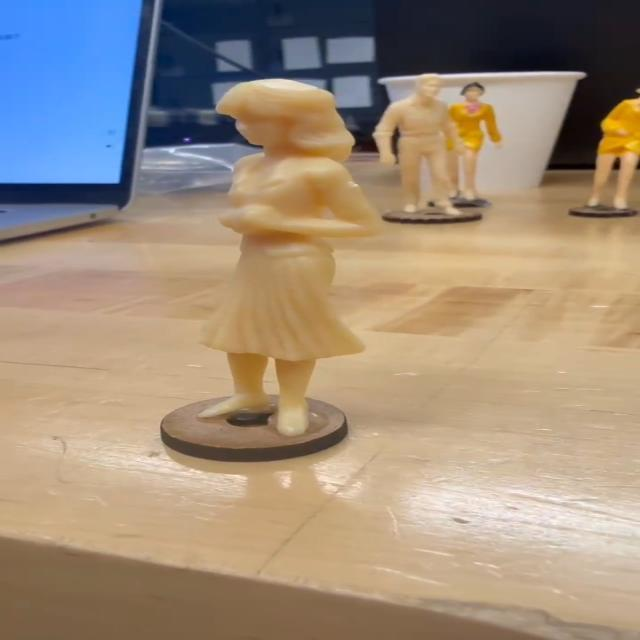Unauthorized: (185, 61, 356, 431)
